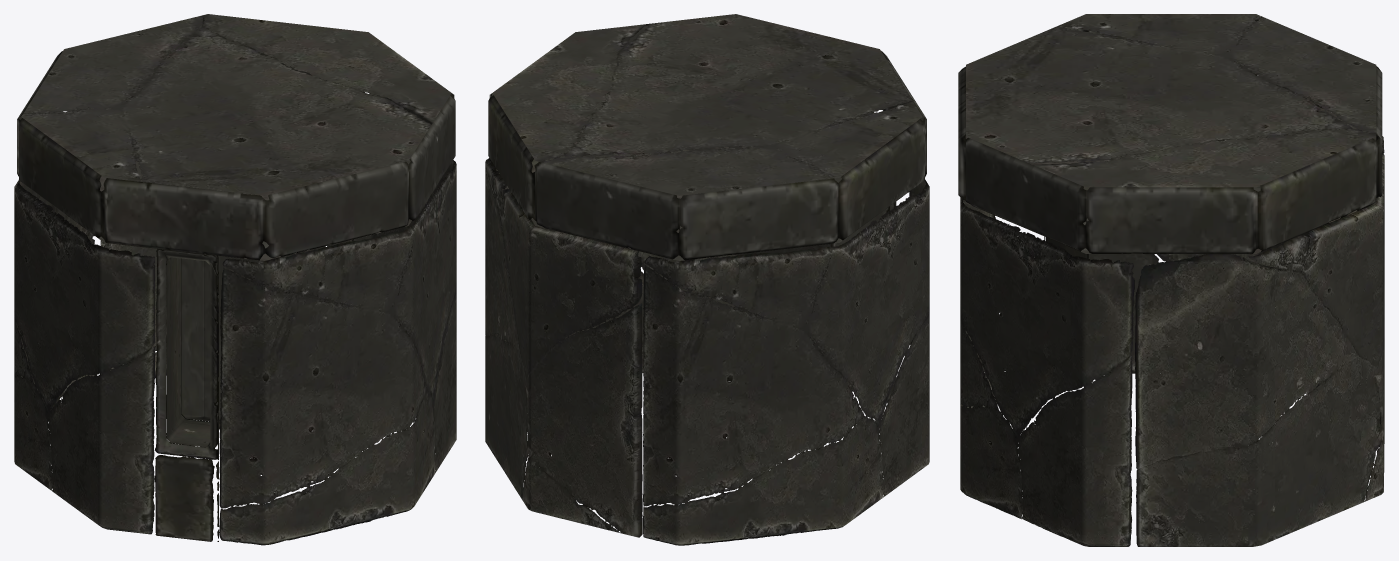
The picture shows the model from 3 angles, left to right: view 1: azimuth 30°, elevation 25°; view 2: azimuth 150°, elevation 25°; view 3: azimuth 270°, elevation 25°; orthographic projection. The views are drawn at different scales.
Visible parts, largest first — view 1: SM_Greathall_Corner_03_LOD0; view 2: SM_Greathall_Corner_03_LOD0; view 3: SM_Greathall_Corner_03_LOD0.
Part boxes in pixels (bbox=[...]): SM_Greathall_Corner_03_LOD0: bbox=[14, 14, 456, 545]; SM_Greathall_Corner_03_LOD0: bbox=[485, 14, 929, 545]; SM_Greathall_Corner_03_LOD0: bbox=[958, 14, 1384, 546].
Bounding box in the file's own units: 2.15 × 2 × 2.15.
Materials: 2 (2 with a texture image).
